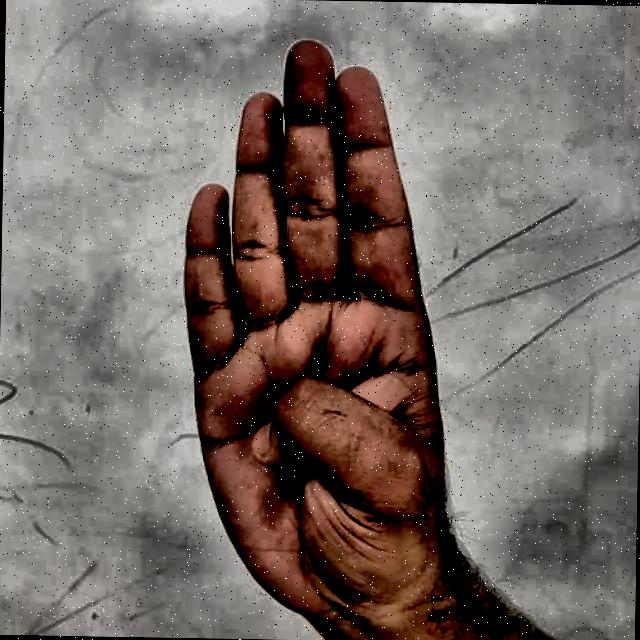Ba: (134, 25, 522, 634)
